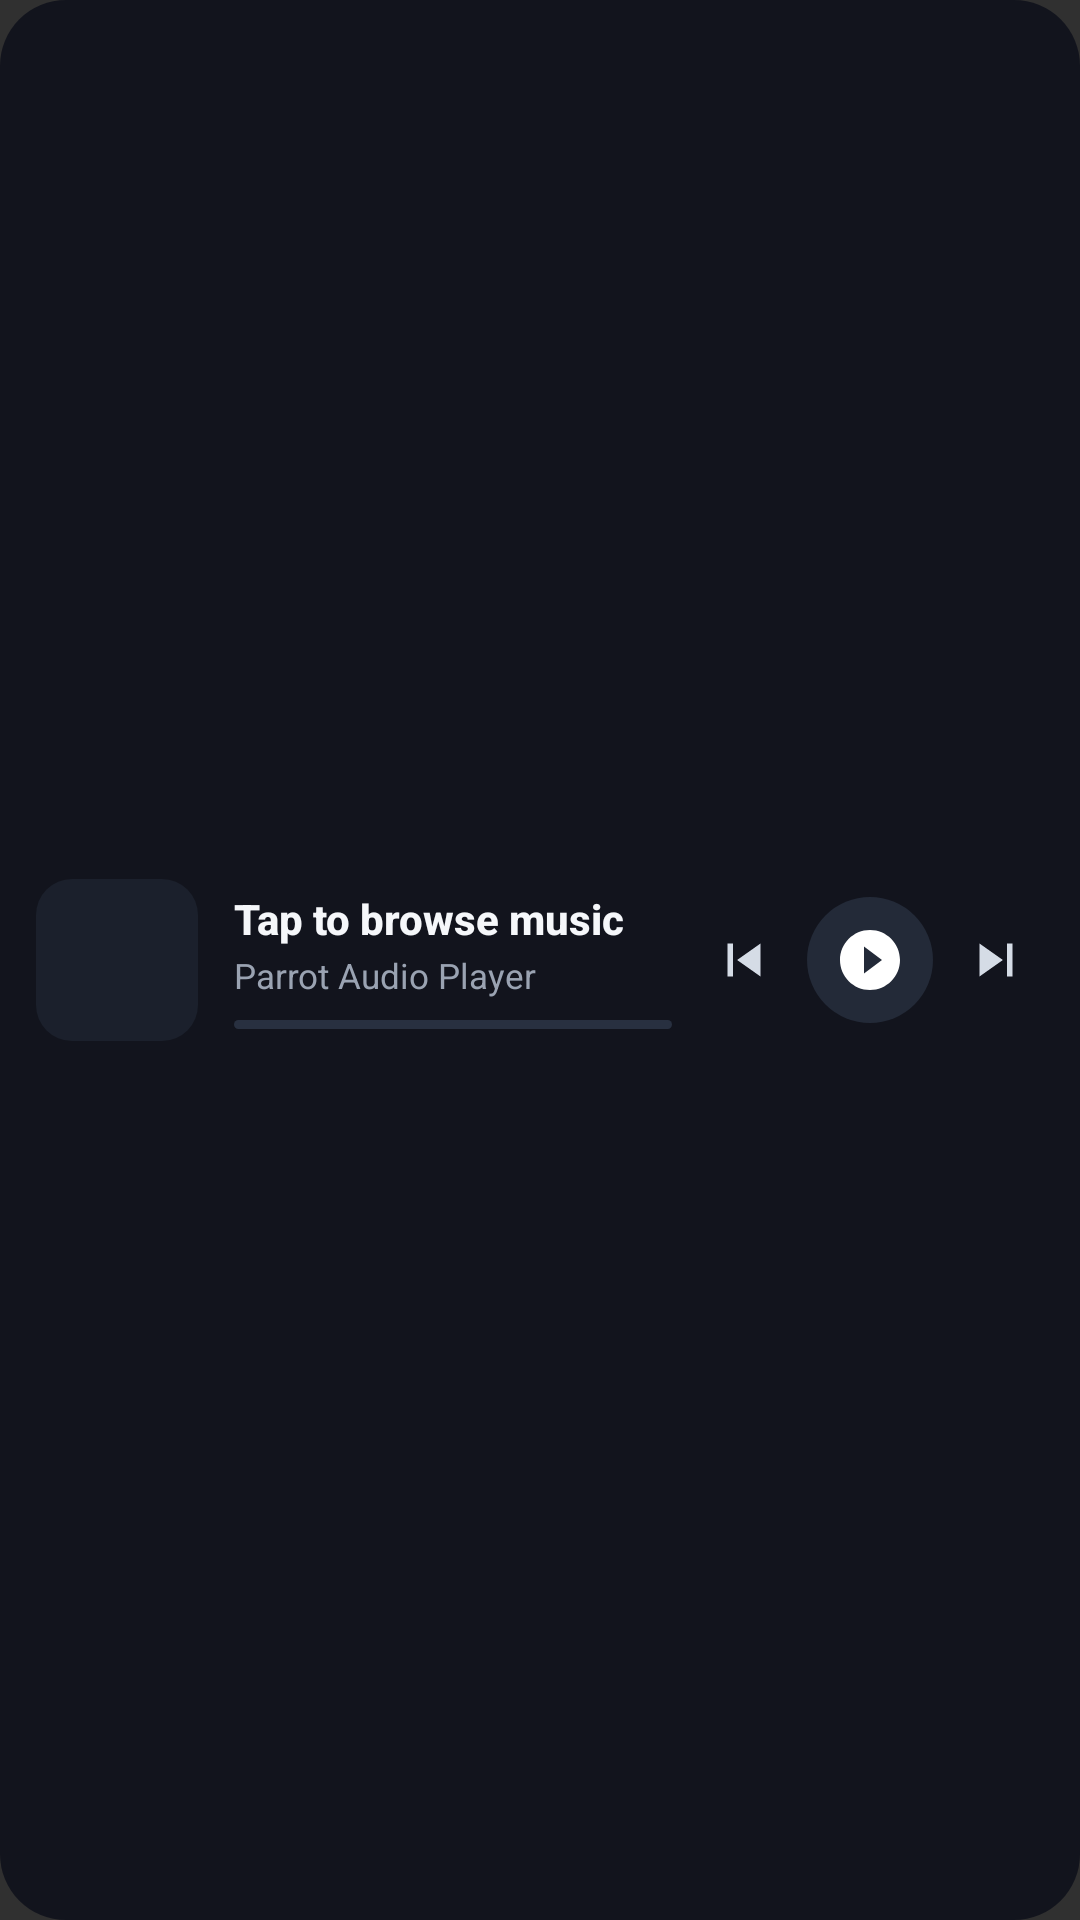

Named icons in this screenshot (1080px×1920px) and their bounding boxes, detection(x1, y1, x2, y2):
Next: detection(979, 943, 1013, 977)
Play or Pause: detection(807, 897, 933, 1023)
Previous: detection(727, 943, 761, 977)
